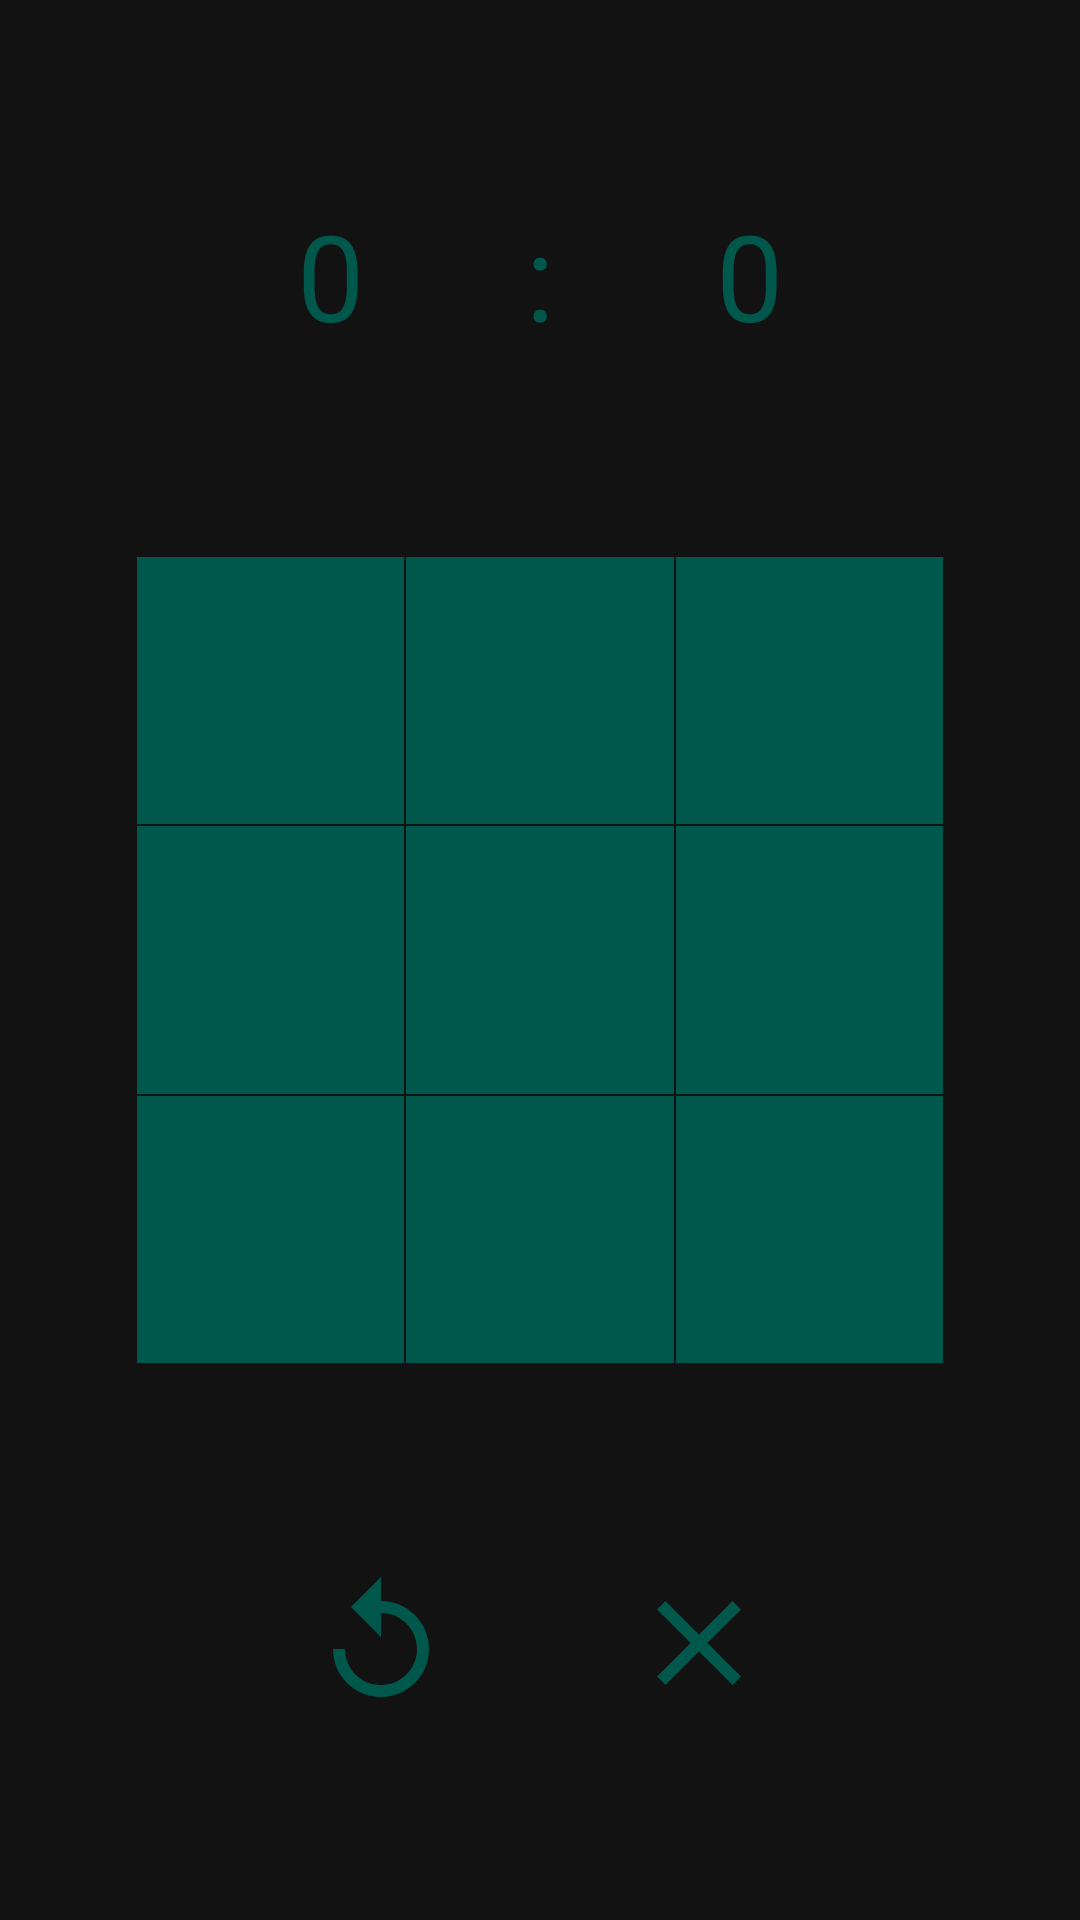

Screen size 1080 x 1920. Icon name, then its box in pixels as (x1, y1, x2, y2):
close: (657, 1601, 741, 1685)
replay: (333, 1577, 429, 1697)
